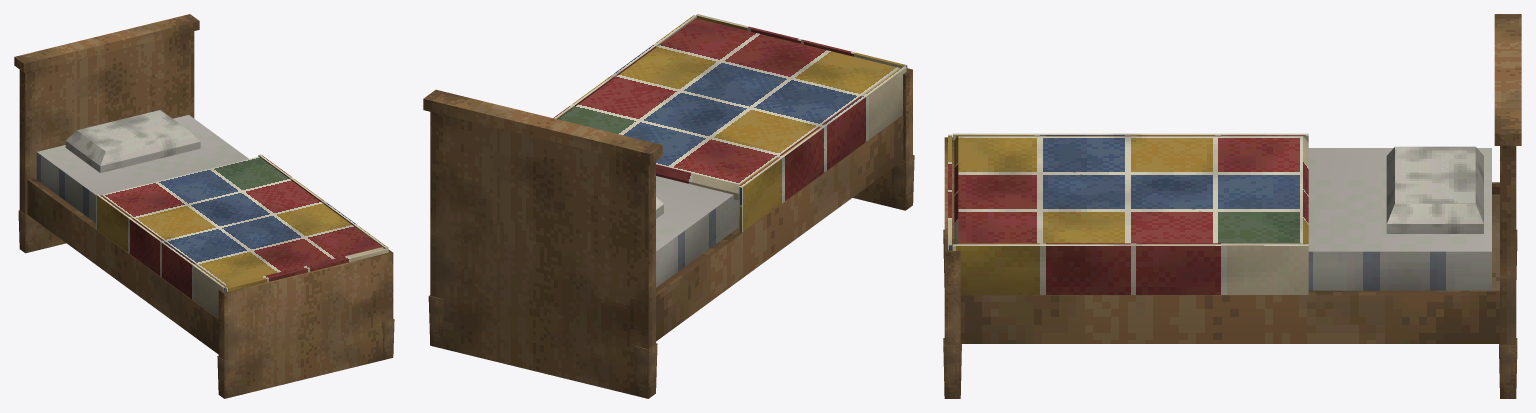
File: bed_single_oak.glb
The picture shows the model from 3 angles, left to right: view 1: azimuth 30°, elevation 25°; view 2: azimuth 150°, elevation 25°; view 3: azimuth 270°, elevation 25°; orthographic projection. The views are drawn at different scales.
Visible parts, largest first — view 1: bed_single_oak; view 2: bed_single_oak; view 3: bed_single_oak.
Boxes of the visible parts, x1,y1,x2,y2 form: bed_single_oak: (14,14,394,398); bed_single_oak: (423,14,914,398); bed_single_oak: (943,14,1521,398).
Size of the model in its own units: 1.05 by 1.1 by 2.14.
Materials: 1 (1 with a texture image).
